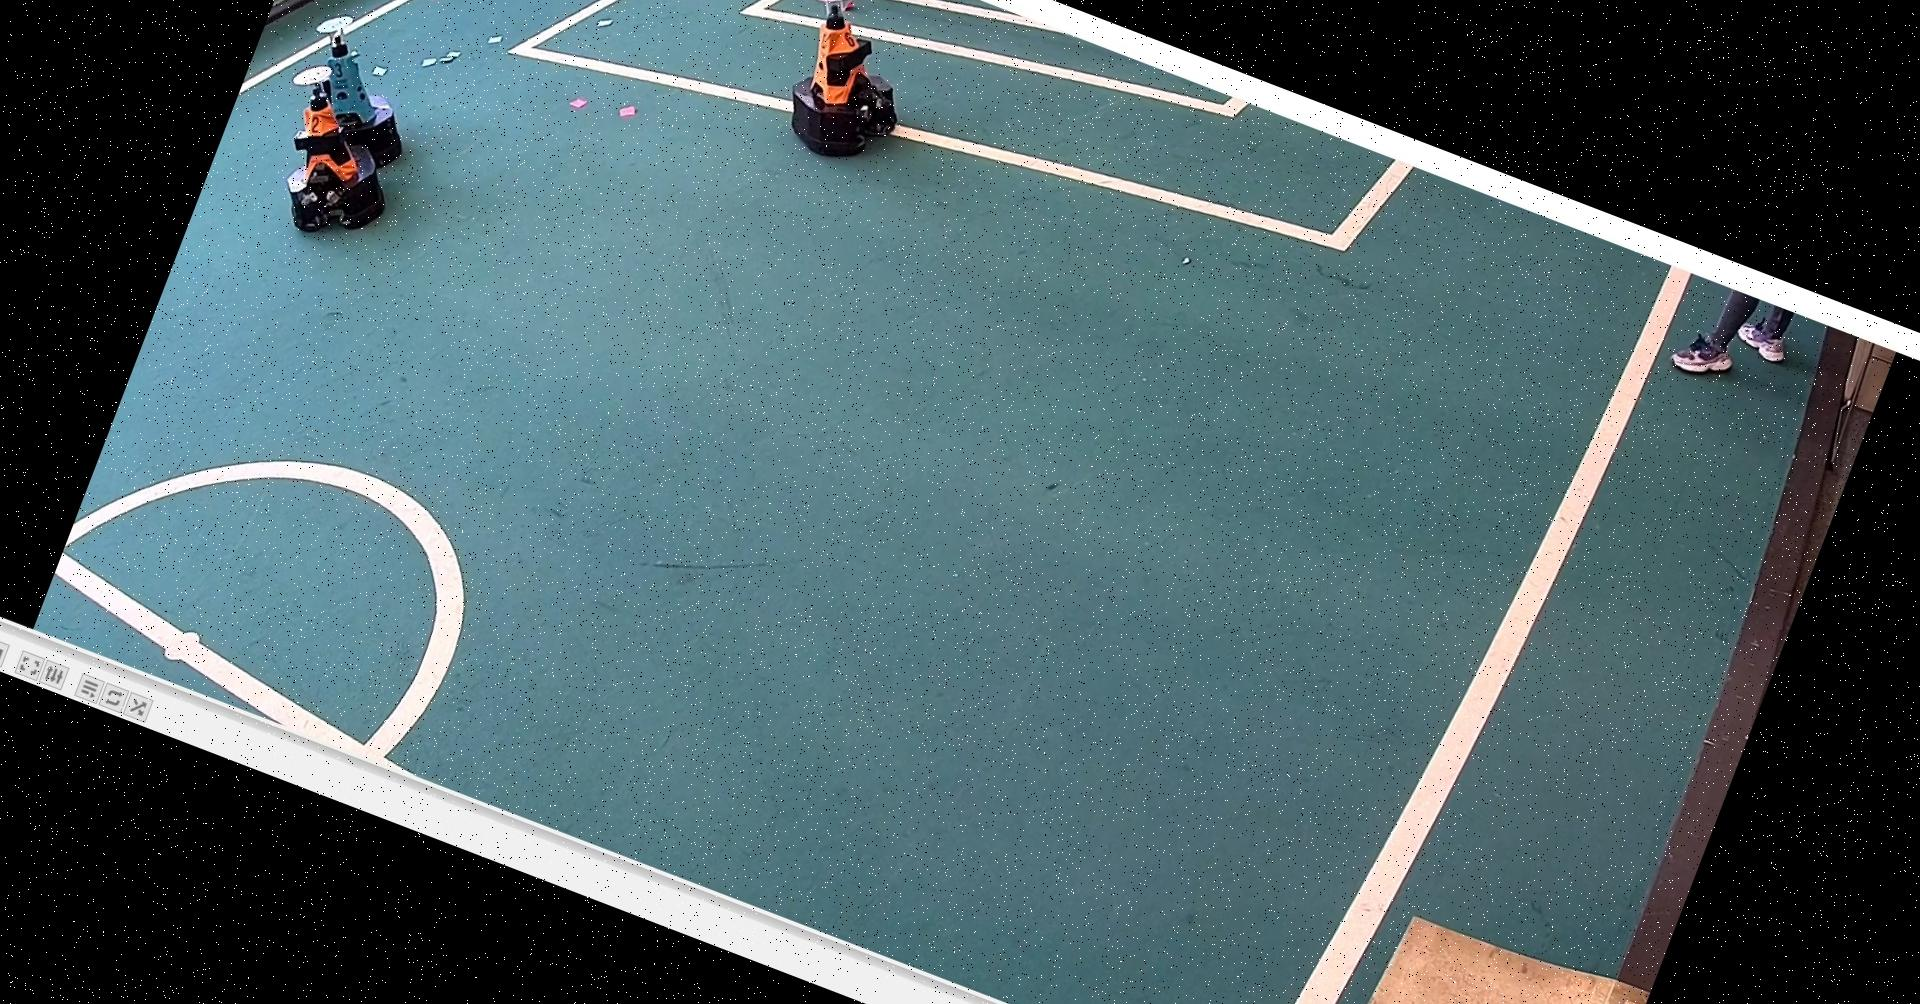Team_Blue: (268, 3, 442, 189)
Team_Red: (237, 52, 430, 264), (754, 0, 941, 182)
